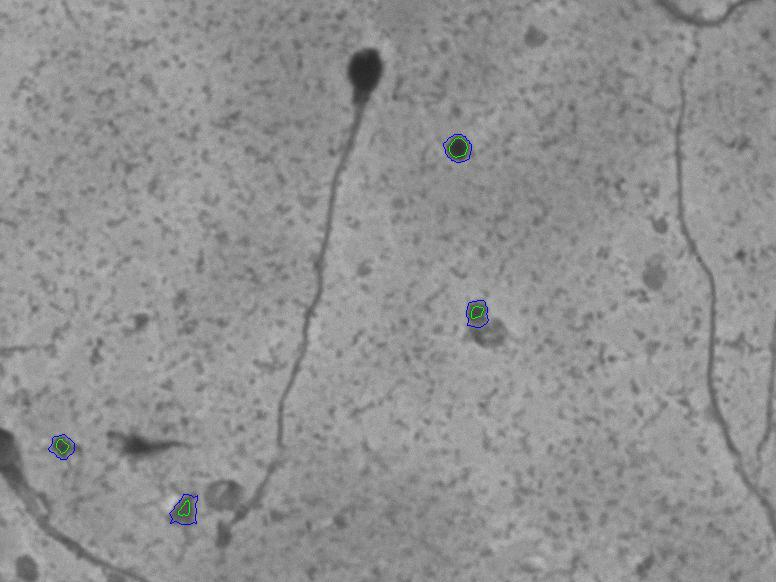Abnormal: (220, 28, 427, 505)
